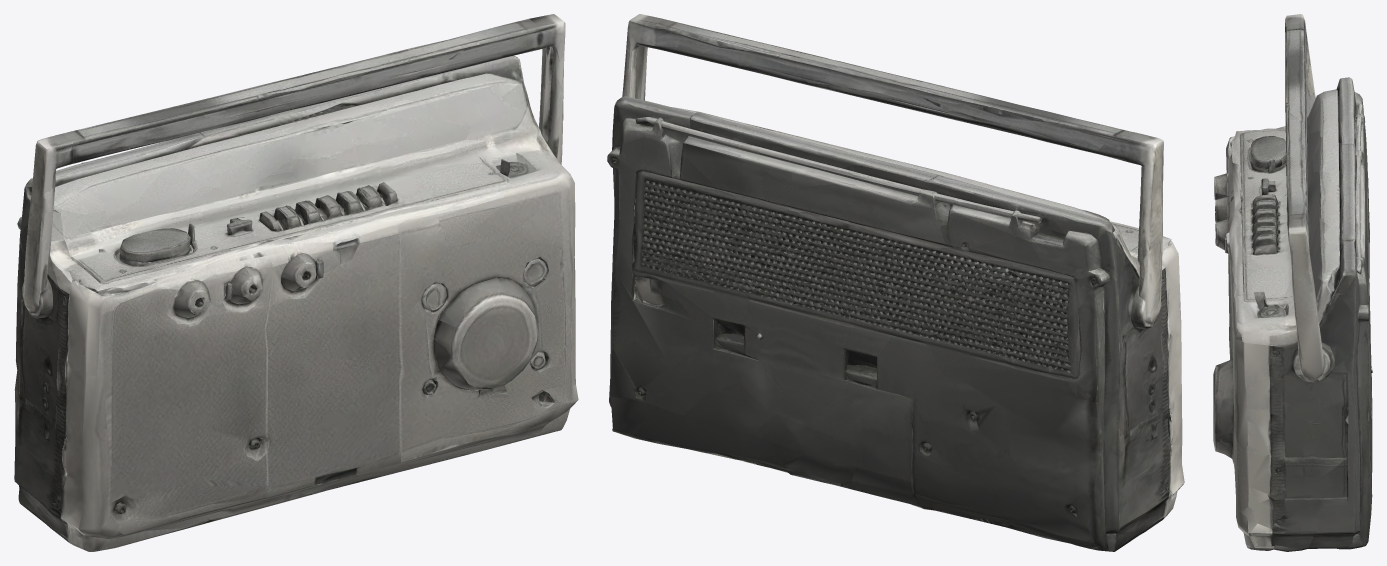
The model's file is sony-02.glb.
The picture shows the model from 3 angles, left to right: view 1: azimuth 30°, elevation 25°; view 2: azimuth 150°, elevation 25°; view 3: azimuth 270°, elevation 25°; orthographic projection. The views are drawn at different scales.
Visible parts, largest first — view 1: mesh_node; view 2: mesh_node; view 3: mesh_node.
Part boxes in pixels (<box>): mesh_node: <box>14,14,578,551</box>; mesh_node: <box>607,14,1184,551</box>; mesh_node: <box>1213,14,1372,551</box>.
Size of the model in its own units: 1.9 by 1.35 by 0.5818.
1 material, 1 textured.
